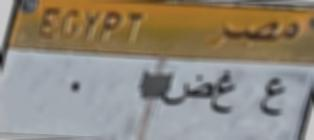0: (66, 74, 86, 100)
ain: (257, 75, 287, 123)
daad: (160, 73, 211, 115)
ghayn: (213, 68, 236, 120)
